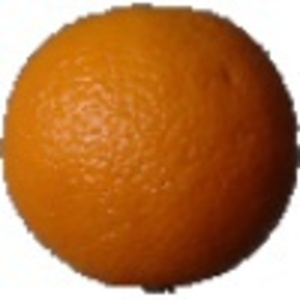laranja: (2, 2, 298, 297)
